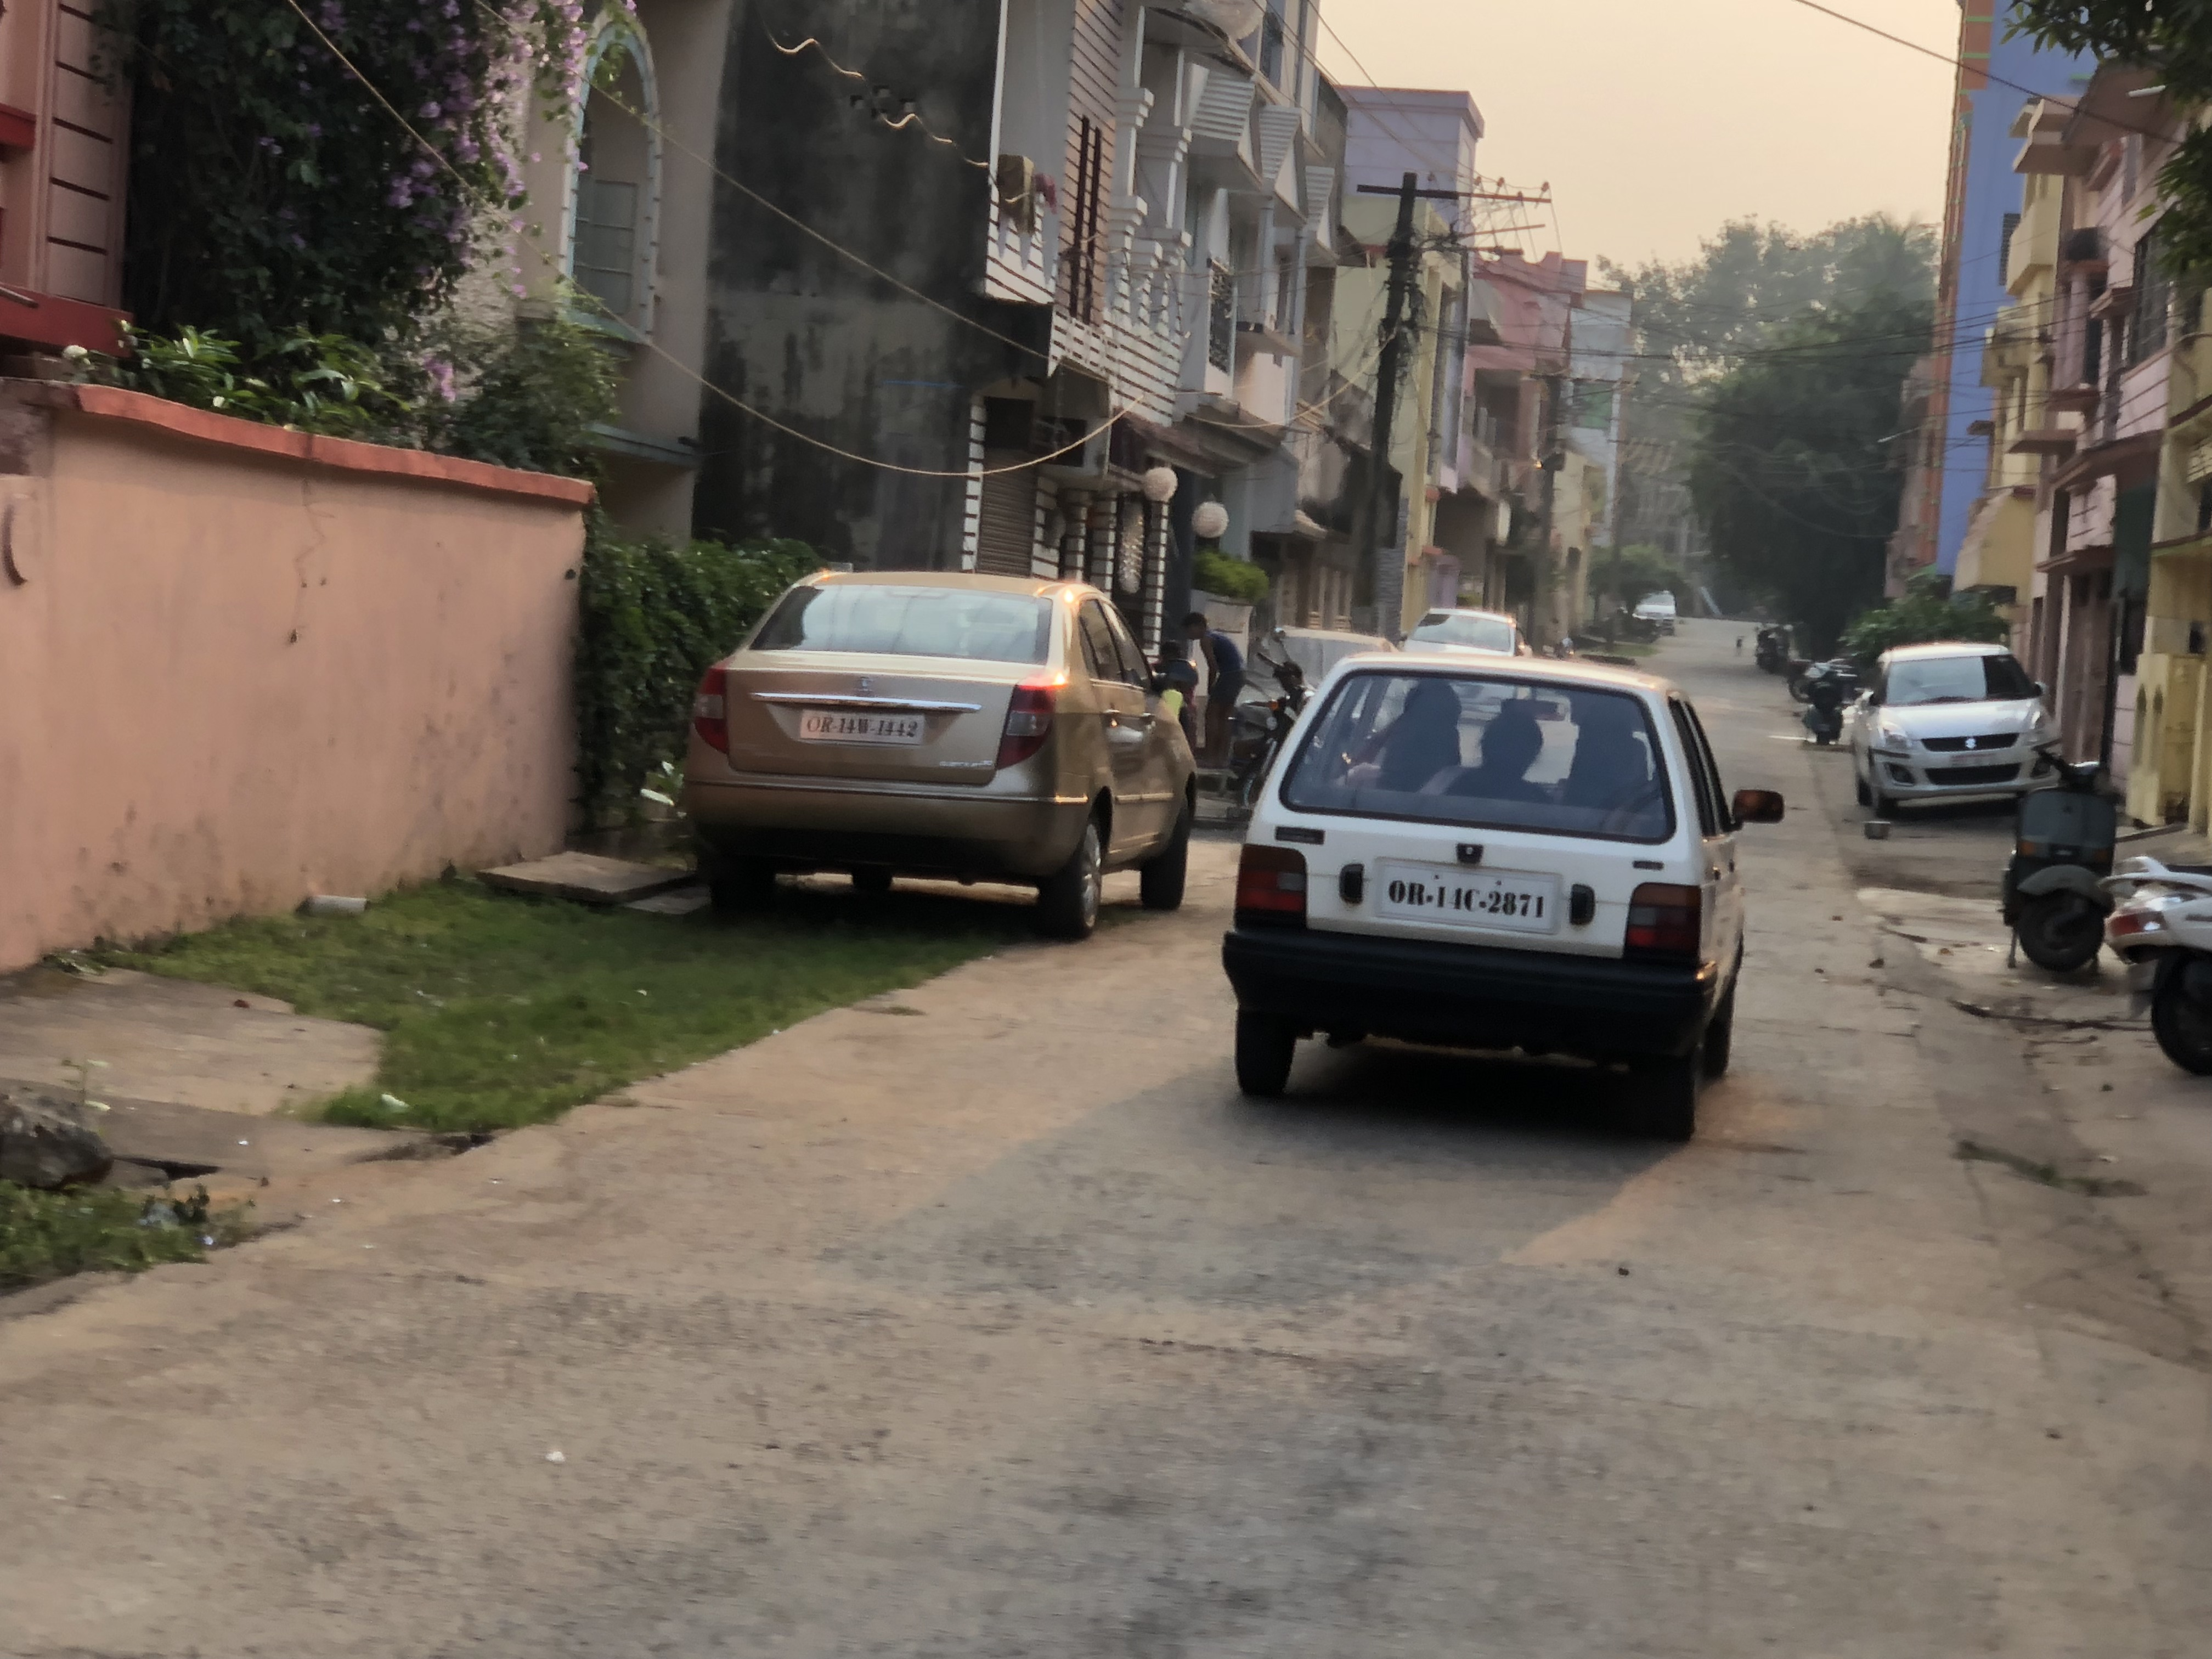licenseplate: (1367, 853, 1571, 941), (780, 698, 943, 758), (1943, 749, 2010, 777)
